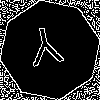Y: (25, 25, 67, 76)
